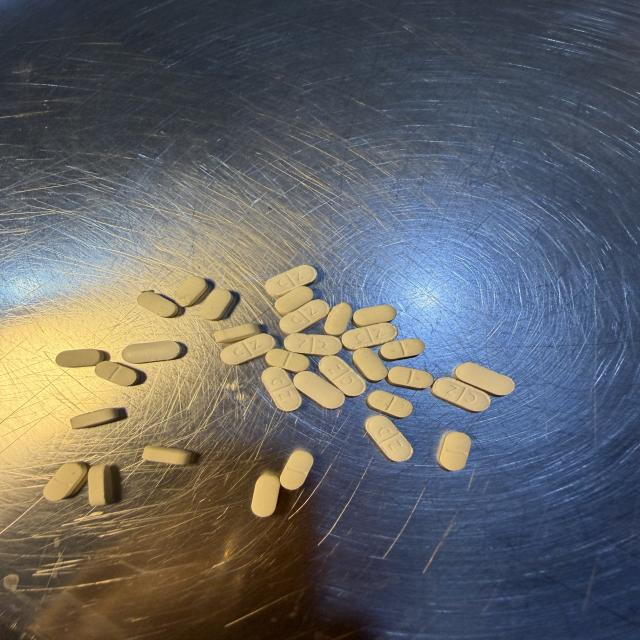pill: (365, 416, 413, 462), (454, 363, 514, 396), (431, 378, 490, 411), (294, 371, 344, 409), (319, 356, 366, 396), (262, 367, 301, 411), (44, 462, 87, 501), (280, 300, 329, 334), (265, 265, 317, 297), (221, 334, 275, 364), (342, 323, 397, 350), (366, 390, 413, 418), (122, 341, 181, 363), (437, 432, 471, 470), (280, 450, 313, 489), (284, 334, 342, 356), (252, 473, 280, 517), (352, 348, 387, 382), (137, 291, 179, 317), (95, 361, 138, 386), (71, 408, 122, 429), (275, 287, 313, 315), (266, 349, 310, 373), (200, 289, 233, 320), (387, 367, 433, 389), (88, 465, 113, 505), (174, 277, 208, 306), (142, 446, 192, 465), (379, 339, 424, 360), (352, 305, 396, 326), (324, 303, 352, 336), (214, 323, 260, 343), (56, 349, 104, 367), (3, 574, 19, 592)
